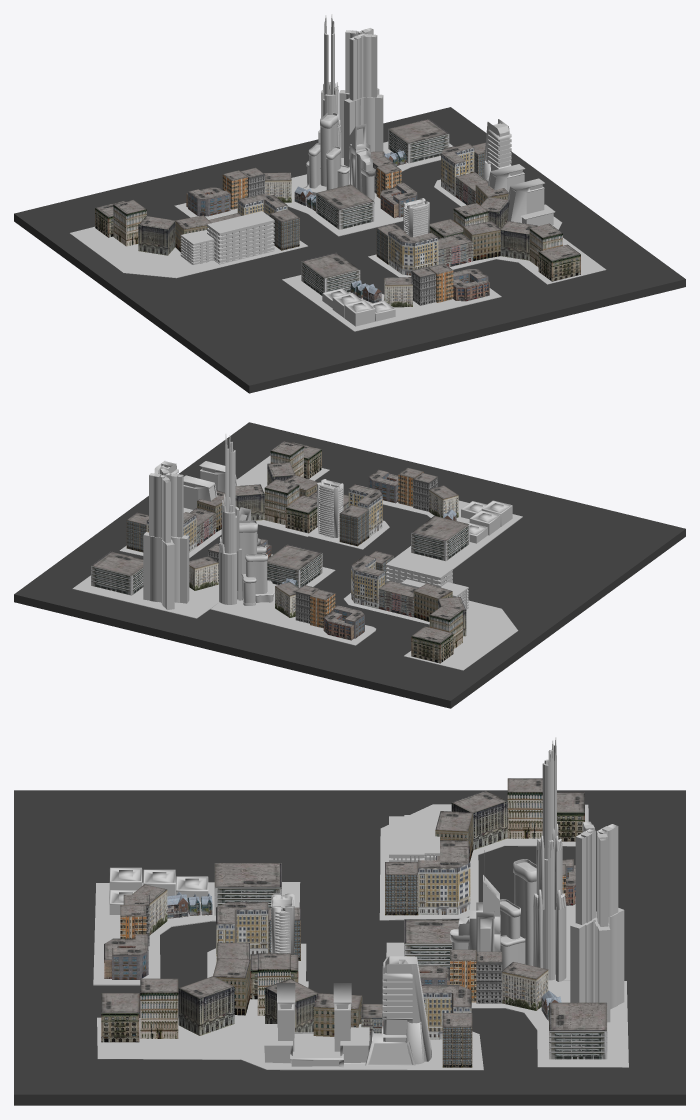
Rendered from town.obj.
The picture shows the model from 3 angles, top to bottom: view 1: azimuth 30°, elevation 25°; view 2: azimuth 150°, elevation 25°; view 3: azimuth 270°, elevation 25°; orthographic projection. The views are drawn at different scales.
Parts seen in each view (by area): view 1: City, mesh01, bldgs2; view 2: City, mesh01, bldgs2; view 3: City, mesh01, bldgs2.
Part boxes in pixels (x1=…): City: x1=14, y1=107, x2=685, y2=393; mesh01: x1=70, y1=119, x2=606, y2=331; bldgs2: x1=180, y1=14, x2=555, y2=326; City: x1=14, y1=422, x2=685, y2=708; mesh01: x1=72, y1=441, x2=522, y2=670; bldgs2: x1=143, y1=434, x2=512, y2=610; City: x1=14, y1=790, x2=685, y2=1105; mesh01: x1=93, y1=778, x2=628, y2=1070; bldgs2: x1=109, y1=737, x2=624, y2=1067.
Size of the model in its own units: 2277 by 871 by 2124.
